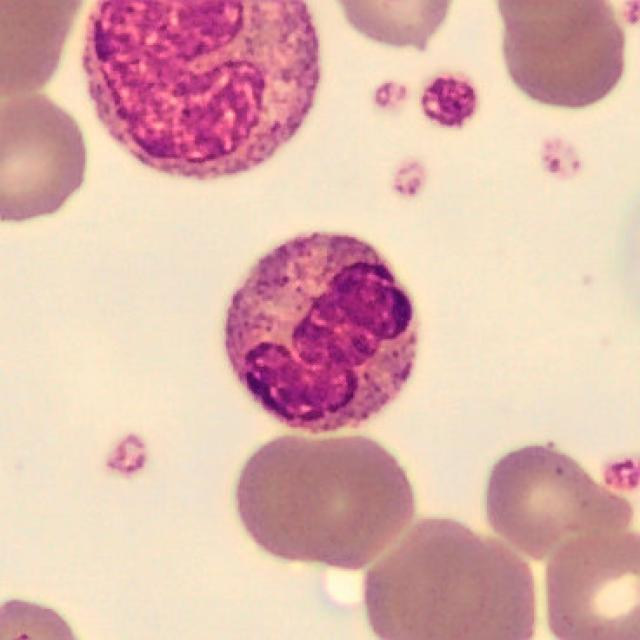Neutrofilo segmentado: (223, 232, 419, 432)
